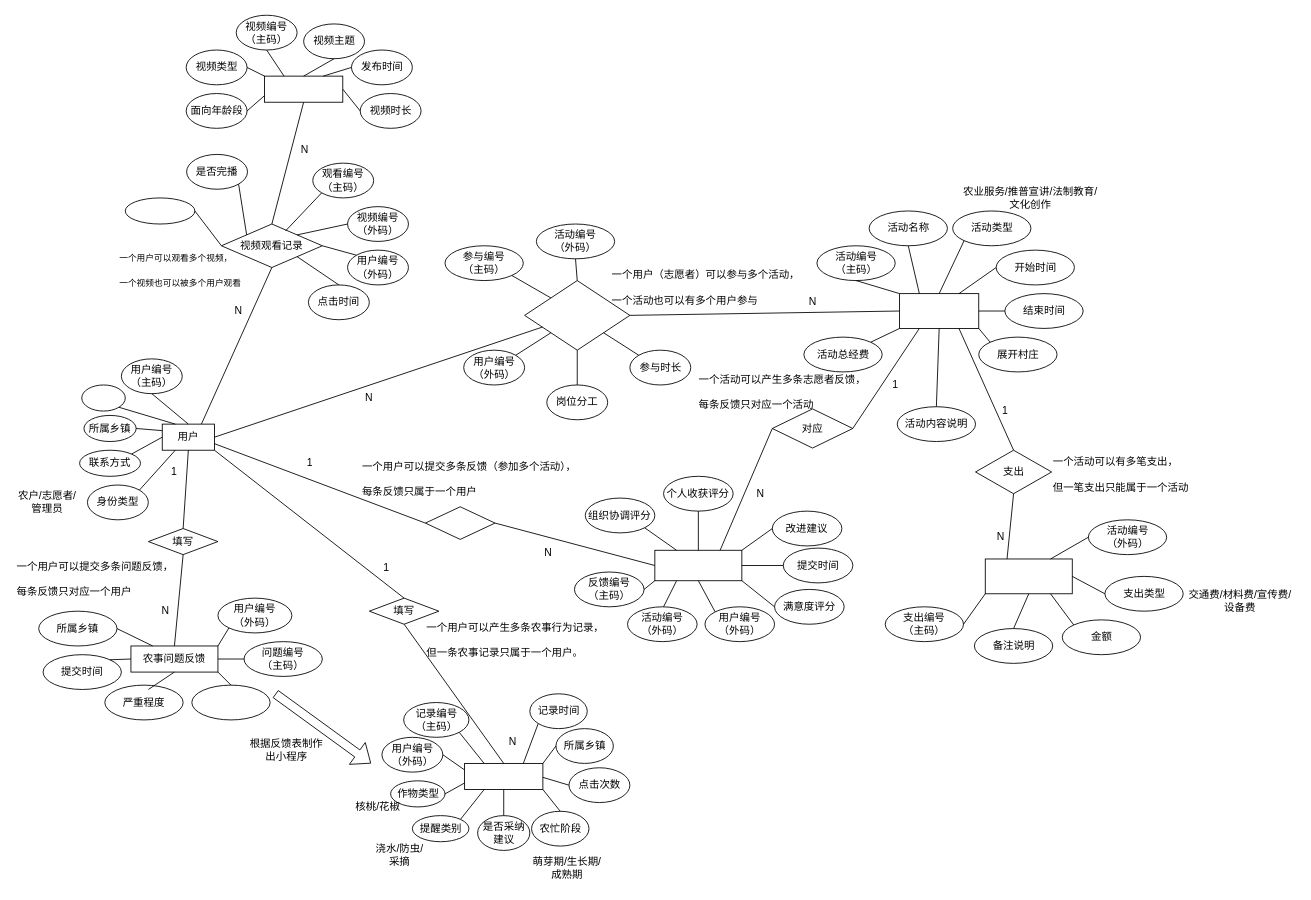
Image size: 1311x900. Some labels were removed from this diagram. The shapes that lost their labels are listed below. From the top down, each one's centre as x and y in pixels, then its label:
At (x=303, y=88): "视频信息".
At (x=159, y=210): "实际观看时长".
At (x=577, y=315): "活动参与记录".
At (x=939, y=310): "公益活动".
At (x=103, y=397): "姓名".
At (x=460, y=522): "属于".
At (x=698, y=565): "志愿者反馈".
At (x=1028, y=576): "活动支出明细".
At (x=230, y=702): "问题类型".
At (x=503, y=776): "农事行为记录".
